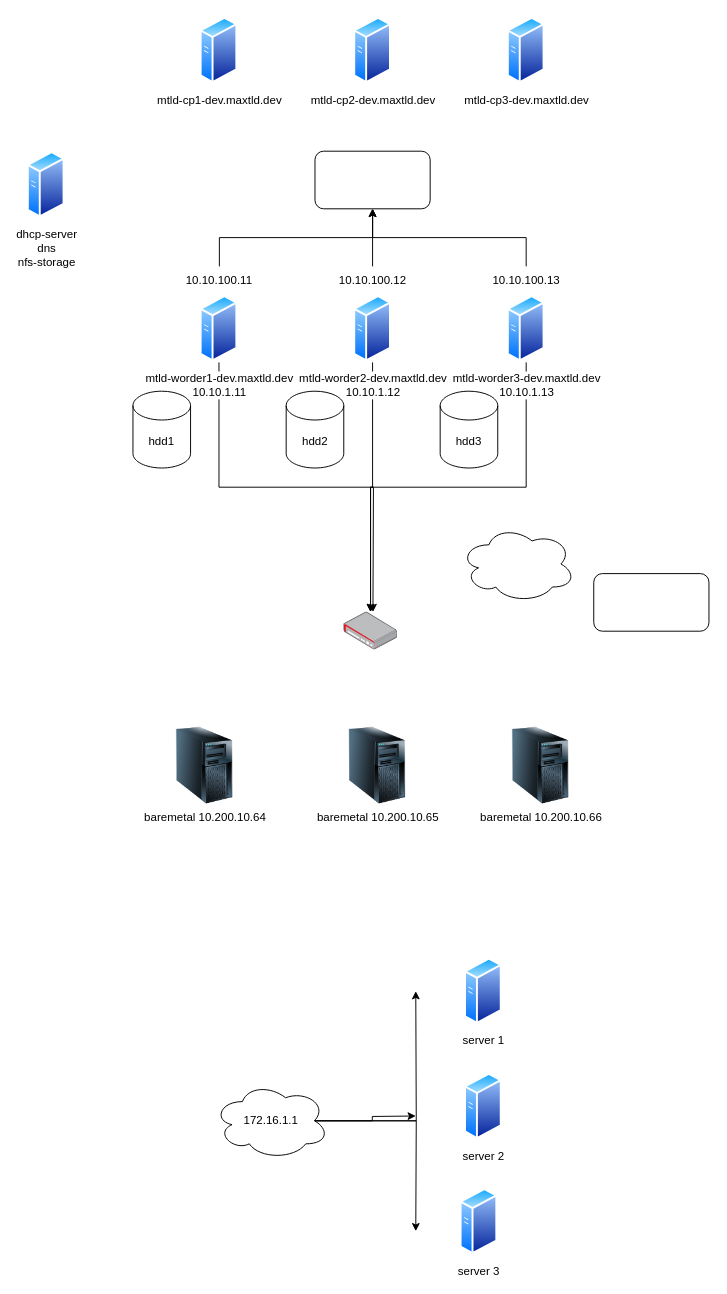
This 727x1294 diagram has some shape labels left out. The centre of each missing label's shape, as x and y in pixels:
"10.10.1.1/24 bgp peering" goes at pixel 370 631.
"BGP Peering virtual IP Range 10.10.55.0/24" goes at pixel 517 563.
"vlan-mtld-dev-2101-private 10.10.100.0/24" goes at pixel 372 179.
"vlan-mtld-dev-2102-public 10.10.1.0/24" goes at pixel 651 602.
